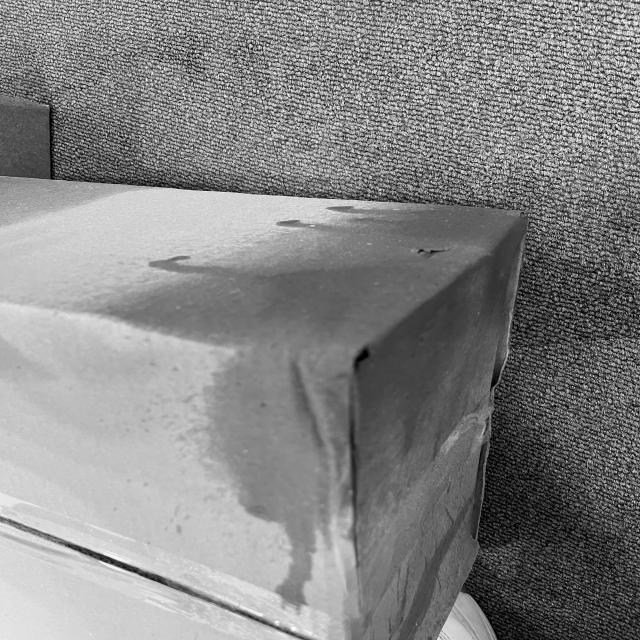wet: (135, 205, 517, 531)
